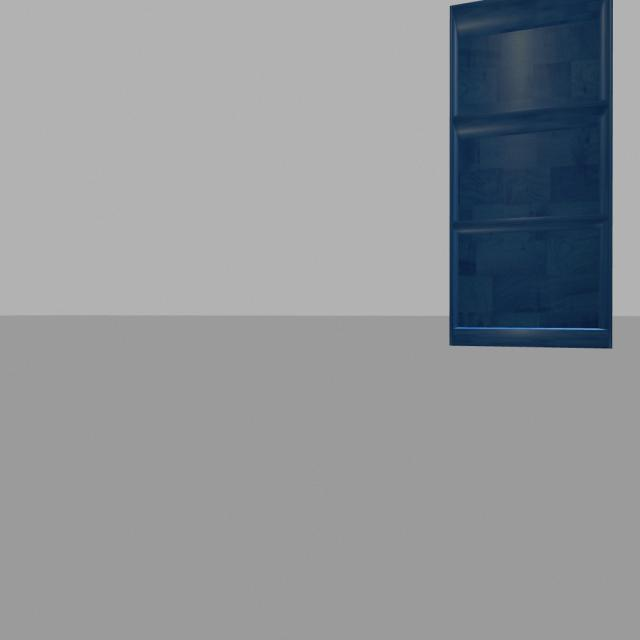shelf: (432, 0, 630, 362)
